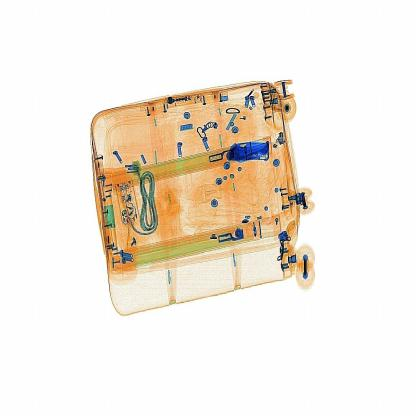knife: (226, 139, 272, 164)
